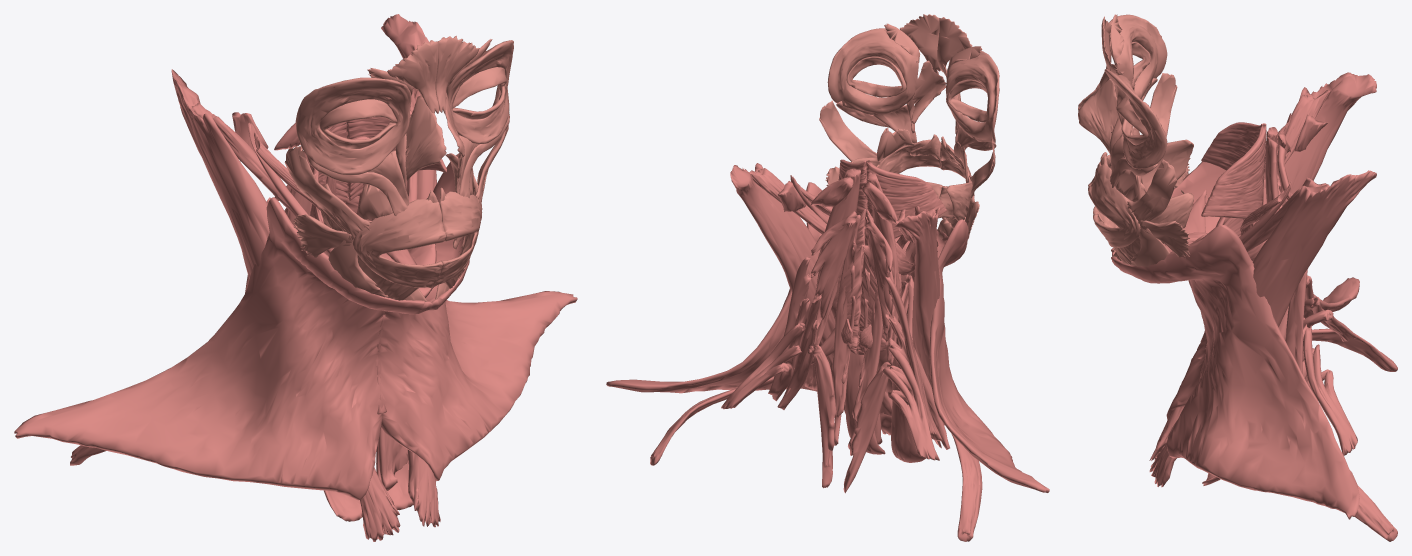
The model's file is vanatome-1.4.0-muscles-head-neck.glb.
The picture shows the model from 3 angles, left to right: view 1: azimuth 30°, elevation 25°; view 2: azimuth 150°, elevation 25°; view 3: azimuth 270°, elevation 25°; orthographic projection. The views are drawn at different scales.
Parts seen in each view (by area): view 1: neck-muscles-platysma-right__Platysma.r, neck-muscles-platysma-left__Platysma.l, facial-expression-muscles-orbital-part-of-orbicularis-oculi- (×2), neck-muscles-sternocleidomastoid-muscle-right__Sternocleidom, facial-expression-muscles-orbicularis-oris-muscle-right__Orb, neck-muscles-sternocleidomastoid-muscle-left__Sternocleidoma, facial-expression-muscles-palpebral-part-of-orbicularis-ocul (×2), facial-expression-muscles-orbicularis-oris-muscle-left__Orbi, facial-expression-muscles-zygomaticus-major-muscle-right__Zy, facial-expression-muscles-nasalis-muscle-right__Nasalis musc, facial-expression-muscles-procerus-muscle-right__Procerus mu, facial-expression-muscles-procerus-muscle-left__Procerus mus (+14 smaller); view 2: facial-expression-muscles-orbital-part-of-orbicularis-oculi- (×2), neck-muscles-longus-colli-muscle-left__Longus colli muscle.l, neck-muscles-platysma-right__Platysma.r, neck-muscles-longus-colli-muscle-right__Longus colli muscle., neck-muscles-sternocleidomastoid-muscle-left__Sternocleidoma, neck-muscles-platysma-left__Platysma.l, neck-muscles-sternocleidomastoid-muscle-right__Sternocleidom, neck-muscles-superior-pharyngeal-constrictor-right__Superior, neck-muscles-scalenus-posterior-muscle-right__Scalenus poste, neck-muscles-omohyoid-muscle-right__Omohyoid muscle.r, facial-expression-muscles-palpebral-part-of-orbicularis-ocul (×2), neck-muscles-scalenus-medius-muscle-left__Scalenus medius mu (+25 smaller); view 3: neck-muscles-platysma-left__Platysma.l, neck-muscles-sternocleidomastoid-muscle-left__Sternocleidoma, facial-expression-muscles-orbital-part-of-orbicularis-oculi- (×2), neck-muscles-sternocleidomastoid-muscle-right__Sternocleidom, neck-muscles-platysma-right__Platysma.r, neck-muscles-superior-pharyngeal-constrictor-left__Superior , facial-expression-muscles-orbicularis-oris-muscle-left__Orbi, neck-muscles-scalenus-posterior-muscle-left__Scalenus poster, neck-muscles-superior-pharyngeal-constrictor-right__Superior, facial-expression-muscles-nasalis-muscle-left__Nasalis muscl, facial-expression-muscles-zygomaticus-major-muscle-left__Zyg, neck-muscles-scalenus-medius-muscle-left__Scalenus medius mu (+21 smaller).
Part boxes in pixels (box(x1,y1,x2,y2)): neck-muscles-platysma-right__Platysma.r: box(14, 197, 432, 500); neck-muscles-platysma-left__Platysma.l: box(376, 153, 577, 481); facial-expression-muscles-orbital-part-of-orbicularis-oculi- (×2): box(295, 40, 513, 174); neck-muscles-sternocleidomastoid-muscle-right__Sternocleidom: box(171, 69, 400, 541); facial-expression-muscles-orbicularis-oris-muscle-right__Orb: box(352, 199, 446, 287); neck-muscles-sternocleidomastoid-muscle-left__Sternocleidoma: box(381, 14, 440, 527); facial-expression-muscles-palpebral-part-of-orbicularis-ocul (×2): box(319, 67, 506, 148); facial-expression-muscles-orbicularis-oris-muscle-left__Orbi: box(432, 191, 482, 287); facial-expression-muscles-zygomaticus-major-muscle-right__Zy: box(284, 146, 371, 240); facial-expression-muscles-nasalis-muscle-right__Nasalis musc: box(405, 95, 446, 180); facial-expression-muscles-procerus-muscle-right__Procerus mu: box(387, 40, 439, 113); facial-expression-muscles-procerus-muscle-left__Procerus mus: box(435, 35, 479, 113); facial-expression-muscles-orbital-part-of-orbicularis-oculi- (×2): box(827, 28, 999, 142); neck-muscles-longus-colli-muscle-left__Longus colli muscle.l: box(811, 211, 860, 488); neck-muscles-platysma-right__Platysma.r: box(906, 219, 1049, 492); neck-muscles-longus-colli-muscle-right__Longus colli muscle.: box(843, 215, 893, 493); neck-muscles-sternocleidomastoid-muscle-left__Sternocleidoma: box(730, 163, 892, 435); neck-muscles-platysma-left__Platysma.l: box(606, 182, 892, 393); neck-muscles-sternocleidomastoid-muscle-right__Sternocleidom: box(895, 207, 941, 448); neck-muscles-superior-pharyngeal-constrictor-right__Superior: box(866, 160, 946, 238); neck-muscles-scalenus-posterior-muscle-right__Scalenus poste: box(882, 344, 939, 460); neck-muscles-omohyoid-muscle-right__Omohyoid muscle.r: box(907, 275, 982, 541); facial-expression-muscles-palpebral-part-of-orbicularis-ocul (×2): box(846, 56, 986, 122); neck-muscles-scalenus-medius-muscle-left__Scalenus medius mu: box(768, 257, 811, 401); neck-muscles-platysma-left__Platysma.l: box(1111, 224, 1359, 519); neck-muscles-sternocleidomastoid-muscle-left__Sternocleidoma: box(1149, 170, 1376, 487); facial-expression-muscles-orbital-part-of-orbicularis-oculi- (×2): box(1104, 14, 1167, 169); neck-muscles-sternocleidomastoid-muscle-right__Sternocleidom: box(1149, 72, 1376, 460); neck-muscles-platysma-right__Platysma.r: box(1111, 161, 1359, 419); neck-muscles-superior-pharyngeal-constrictor-left__Superior : box(1201, 124, 1266, 218); facial-expression-muscles-orbicularis-oris-muscle-left__Orbi: box(1088, 163, 1140, 247); neck-muscles-scalenus-posterior-muscle-left__Scalenus poster: box(1303, 324, 1357, 455); neck-muscles-superior-pharyngeal-constrictor-right__Superior: box(1201, 122, 1266, 170); facial-expression-muscles-nasalis-muscle-left__Nasalis muscl: box(1078, 78, 1118, 153); facial-expression-muscles-zygomaticus-major-muscle-left__Zyg: box(1126, 159, 1177, 226); neck-muscles-scalenus-medius-muscle-left__Scalenus medius mu: box(1285, 269, 1330, 387).
Bounding box in the file's own units: 0.2825 × 0.249 × 0.1599.
